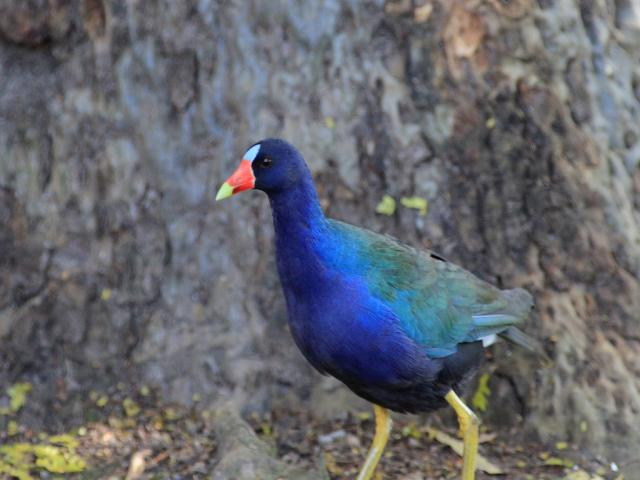Bird: (216, 138, 545, 480)
